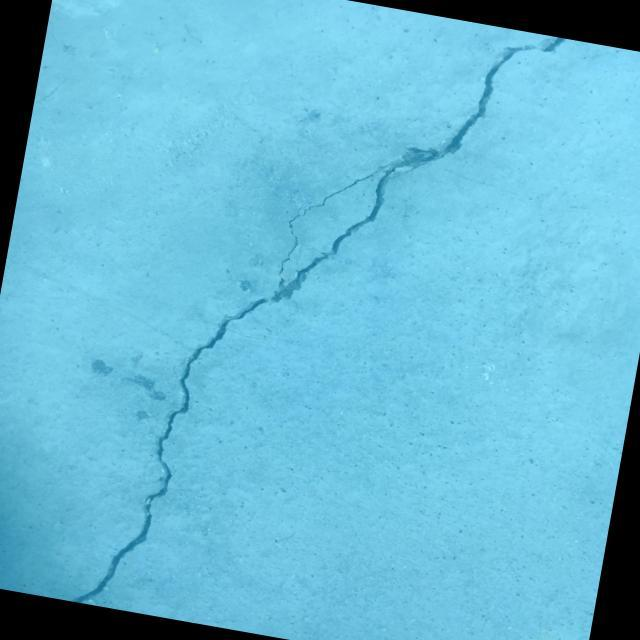crack: (69, 0, 566, 640)
